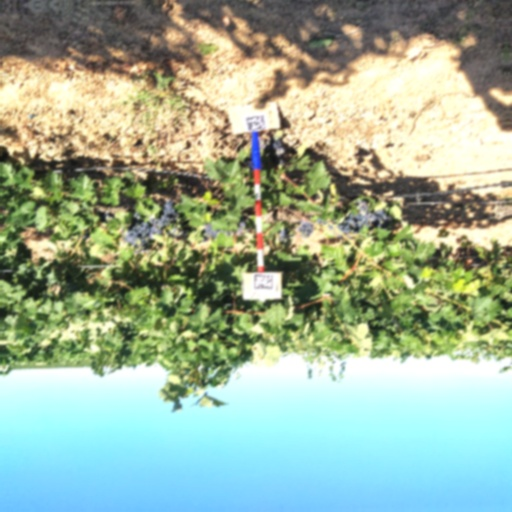QR: (245, 116, 266, 133), (254, 276, 272, 291)
